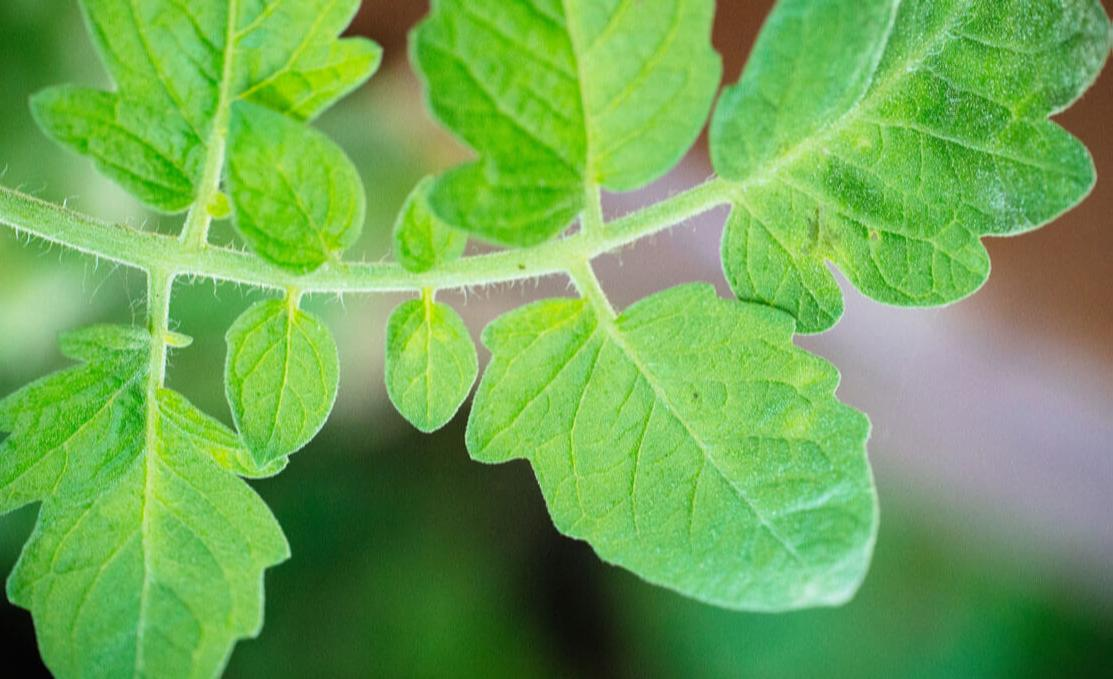Tomato leaf: (486, 261, 880, 626), (730, 0, 1113, 330), (0, 317, 255, 679), (42, 0, 394, 224), (422, 0, 704, 256), (226, 101, 386, 283), (225, 278, 350, 458), (376, 278, 479, 447)
